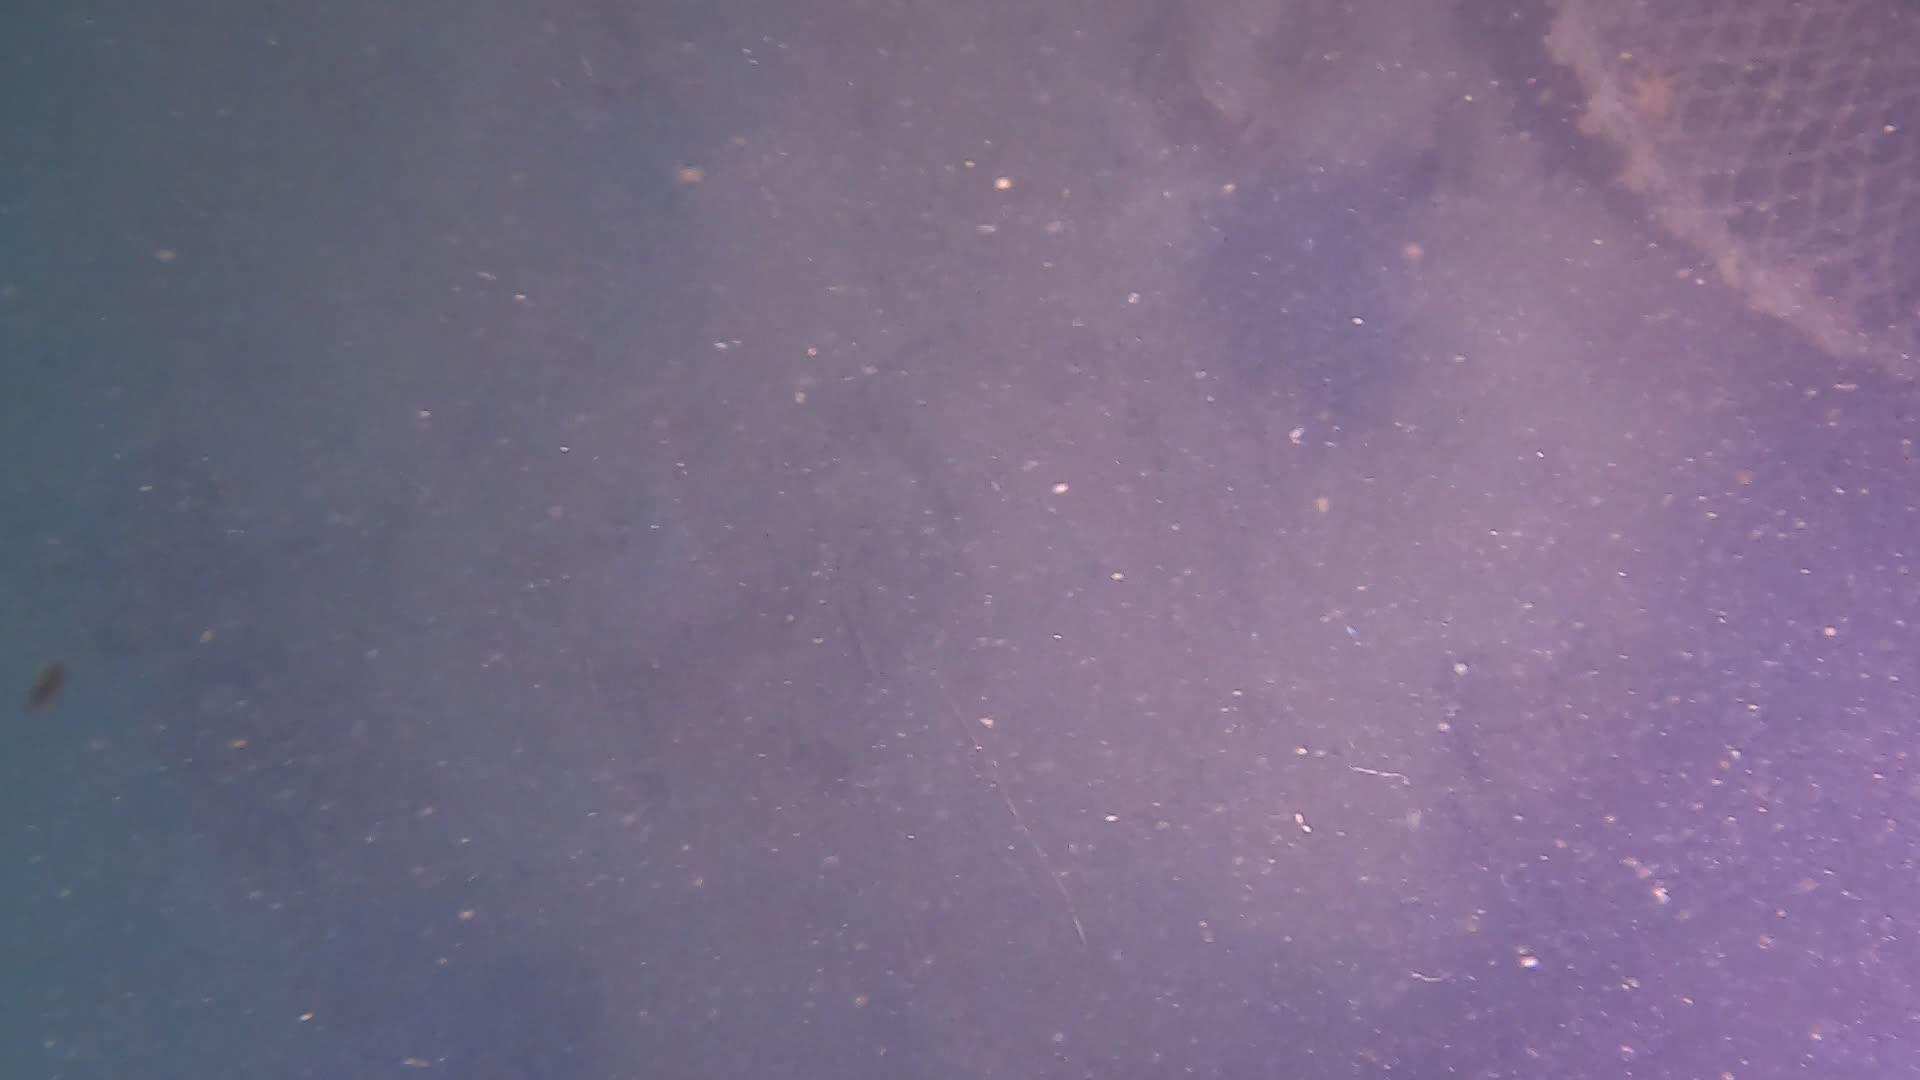fish net: (1607, 0, 1920, 331)
